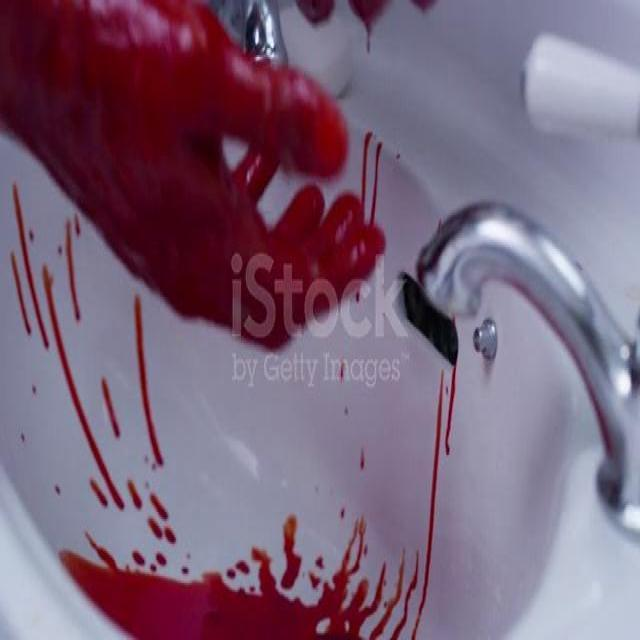flood: (0, 0, 378, 346), (54, 500, 428, 640)
